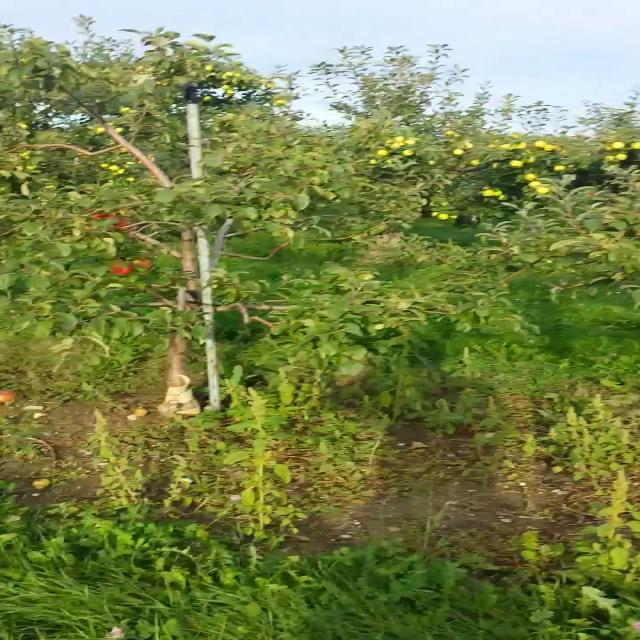apple: (111, 260, 132, 276), (108, 218, 130, 230), (91, 212, 113, 222), (130, 258, 150, 267), (612, 142, 626, 150), (154, 79, 168, 87), (523, 174, 537, 181), (537, 188, 550, 195), (511, 160, 522, 168), (515, 142, 527, 149), (482, 190, 492, 198), (492, 190, 505, 196), (529, 182, 540, 189), (402, 150, 414, 156), (94, 128, 106, 134), (276, 99, 288, 105), (20, 124, 30, 131), (526, 157, 536, 164), (496, 195, 507, 201), (617, 154, 628, 160), (535, 140, 546, 146), (544, 146, 555, 152), (406, 140, 417, 146), (501, 143, 512, 149), (439, 214, 449, 220), (376, 150, 388, 155), (113, 127, 123, 133), (109, 165, 119, 171), (120, 106, 130, 112), (266, 83, 276, 89), (453, 149, 463, 155), (606, 155, 616, 161), (449, 215, 460, 220), (453, 133, 464, 138), (125, 162, 134, 168), (116, 169, 126, 174), (510, 134, 520, 139), (632, 143, 639, 150), (205, 66, 213, 72), (446, 130, 454, 136), (605, 145, 613, 151), (120, 147, 128, 153), (431, 212, 440, 217), (555, 166, 564, 171), (368, 159, 377, 164), (395, 137, 404, 142), (428, 160, 436, 165), (202, 96, 210, 101), (227, 90, 235, 95), (233, 73, 241, 78), (28, 165, 36, 170), (392, 143, 400, 148), (148, 155, 154, 161), (493, 162, 499, 168), (471, 160, 478, 165), (20, 152, 27, 157), (102, 164, 110, 168), (222, 86, 230, 90), (464, 144, 472, 148), (398, 142, 405, 146), (126, 178, 135, 181), (227, 72, 233, 76), (222, 74, 228, 78), (387, 140, 393, 144)
